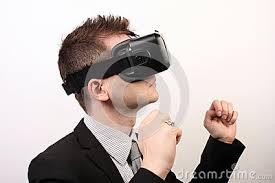oculus: (110, 32, 174, 85)
